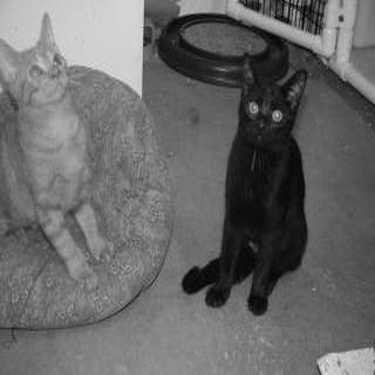cat: (176, 50, 308, 313), (1, 6, 116, 291)
